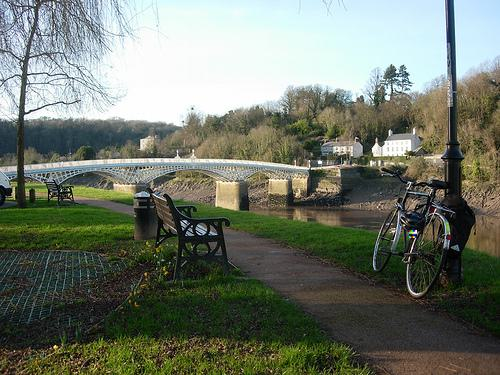car: (372, 168, 455, 300)
